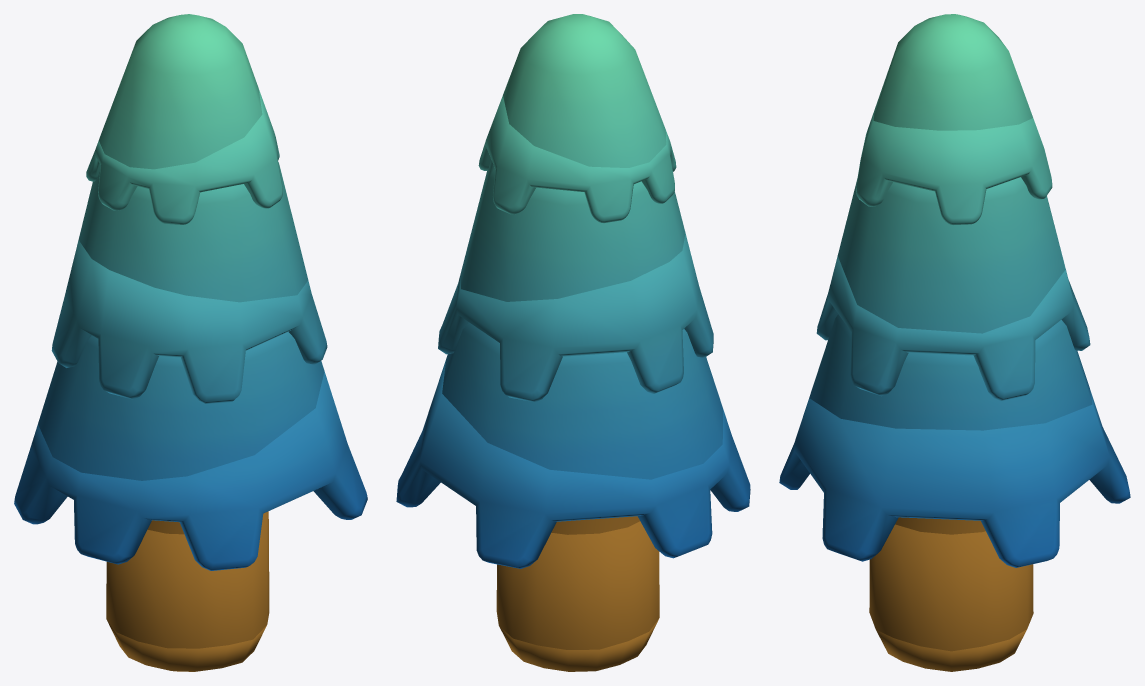
File: Tree_4.fbx
The picture shows the model from 3 angles, left to right: view 1: azimuth 30°, elevation 25°; view 2: azimuth 150°, elevation 25°; view 3: azimuth 270°, elevation 25°; orthographic projection.
Visible parts, largest first — view 1: Trtee_Cuts4, Trtee_Cuts3, Trtee_Cuts5, Trtee_Cuts2, Trtee_Cuts6, Trtee_Cuts1; view 2: Trtee_Cuts4, Trtee_Cuts3, Trtee_Cuts5, Trtee_Cuts2, Trtee_Cuts6, Trtee_Cuts1; view 3: Trtee_Cuts3, Trtee_Cuts5, Trtee_Cuts4, Trtee_Cuts6, Trtee_Cuts2, Trtee_Cuts1.
Part boxes in pixels (left/top/right/bottom): Trtee_Cuts4: left=38, top=240, right=327, bottom=480; Trtee_Cuts3: left=78, top=89, right=308, bottom=302; Trtee_Cuts5: left=14, top=372, right=367, bottom=570; Trtee_Cuts2: left=99, top=14, right=262, bottom=169; Trtee_Cuts6: left=106, top=511, right=269, bottom=648; Trtee_Cuts1: left=107, top=620, right=266, bottom=671; Trtee_Cuts4: left=438, top=233, right=722, bottom=479; Trtee_Cuts3: left=461, top=95, right=685, bottom=301; Trtee_Cuts5: left=396, top=359, right=750, bottom=568; Trtee_Cuts2: left=503, top=14, right=666, bottom=167; Trtee_Cuts6: left=496, top=521, right=659, bottom=649; Trtee_Cuts1: left=499, top=619, right=658, bottom=671; Trtee_Cuts3: left=837, top=111, right=1065, bottom=333; Trtee_Cuts5: left=779, top=389, right=1130, bottom=567; Trtee_Cuts4: left=809, top=247, right=1092, bottom=430; Trtee_Cuts6: left=869, top=524, right=1033, bottom=651; Trtee_Cuts2: left=873, top=14, right=1032, bottom=130; Trtee_Cuts1: left=876, top=629, right=1026, bottom=671.
Bounding box in the file's own units: 5.38 × 11.02 × 5.58.
3 materials, 1 textured.
